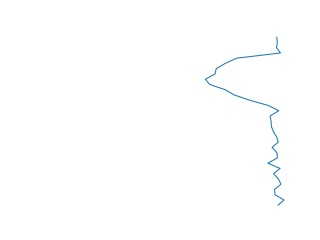distalBar: (202, 38, 290, 205)
